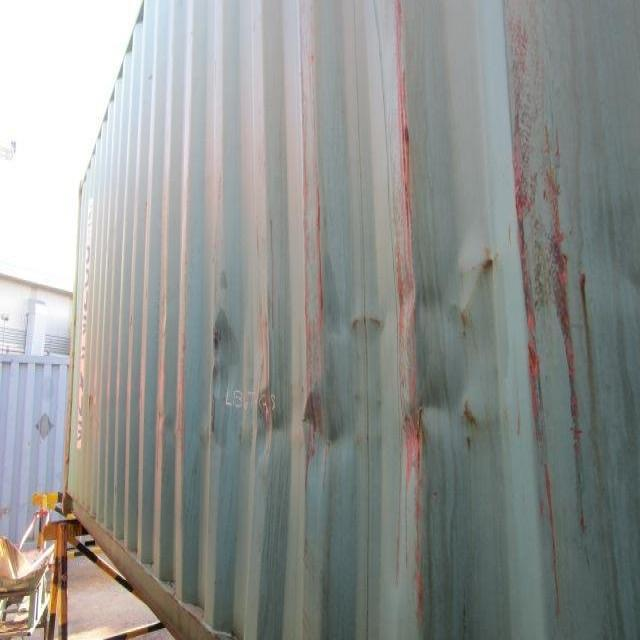Dent: (178, 252, 541, 499)
